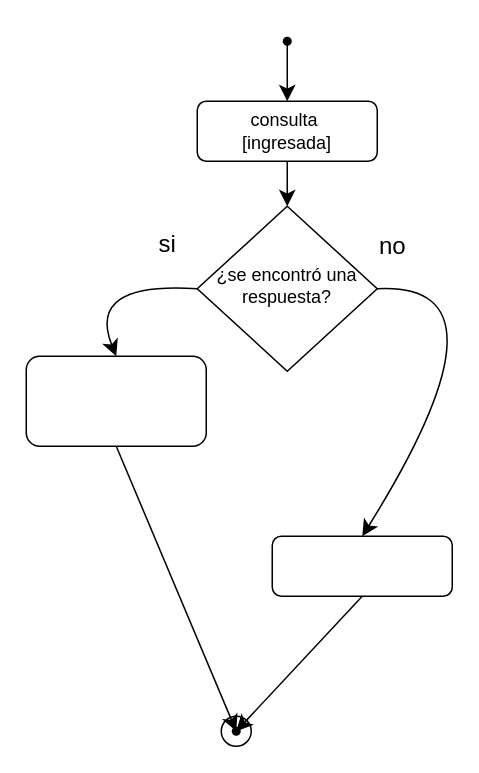
Image size: 479x773. Some labels were removed from this diagram. The shapes that lost their labels are listed below. From the top down, each one's centre as x and y in pixels, then its label:
At point (115, 400): "consulta [mostrada]".
At point (361, 565): "consulta [actualizada]".
